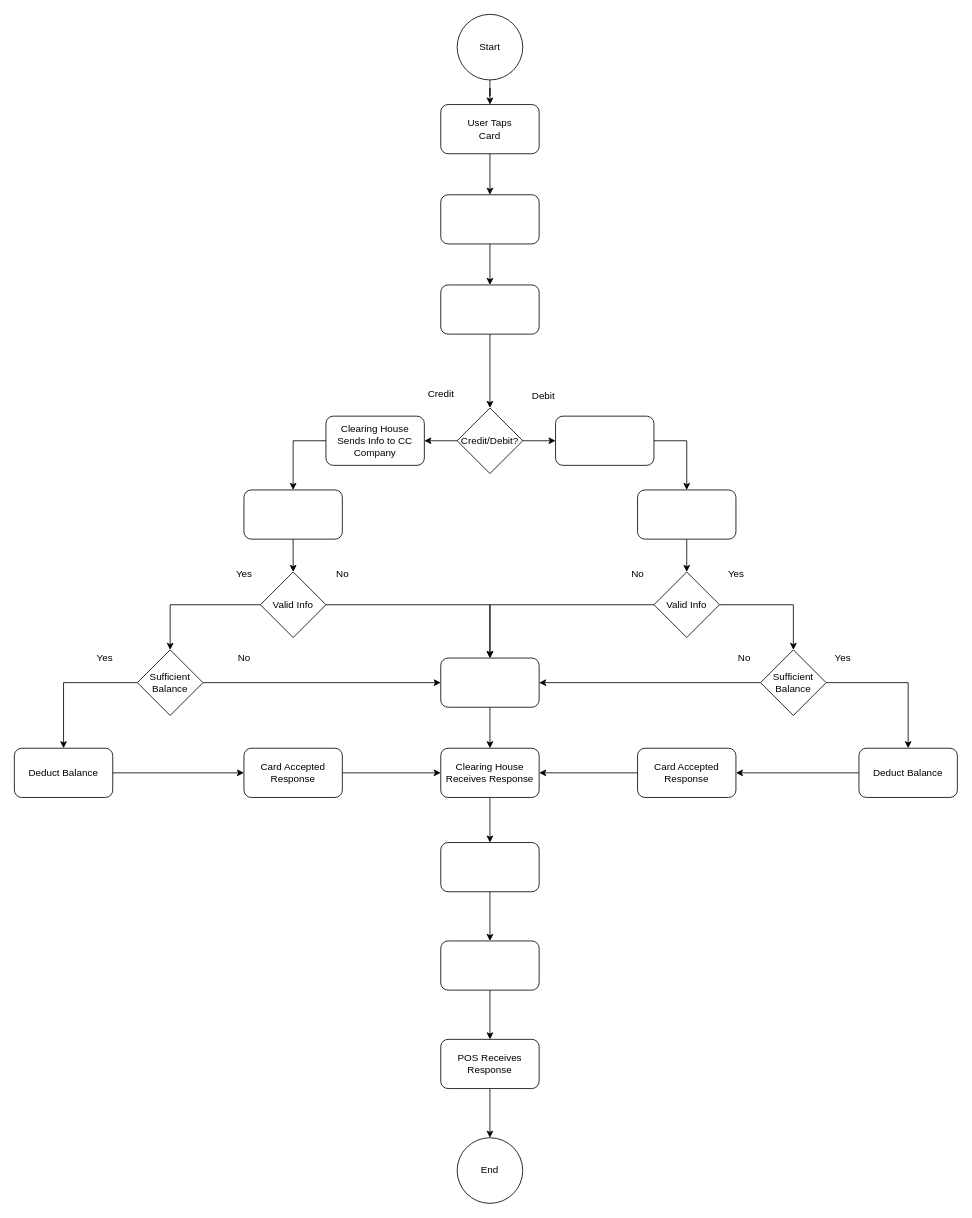
Some shapes in this 972 by 1218 pixel diagram are drawn without their labels. The shapes that lost their labels are listed below. From the top down, each one's centre as x and y in pixels, then its label:
At (x=489, y=219): "POS Sends Info by API".
At (x=489, y=309): "Clearing House Receives Info".
At (x=604, y=440): "Clearing House Sends Info to Bank".
At (x=292, y=514): "CC Company Receives Info".
At (x=686, y=514): "Bank Receives Info".
At (x=489, y=682): "Card Rejected Response".
At (x=489, y=867): "Clearing House Records Response".
At (x=489, y=965): "Clearing House Relays Response to POS".
